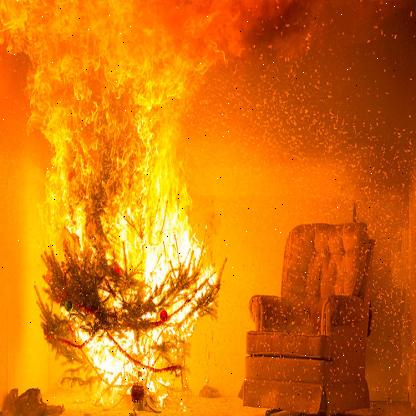fire: (1, 0, 239, 406)
